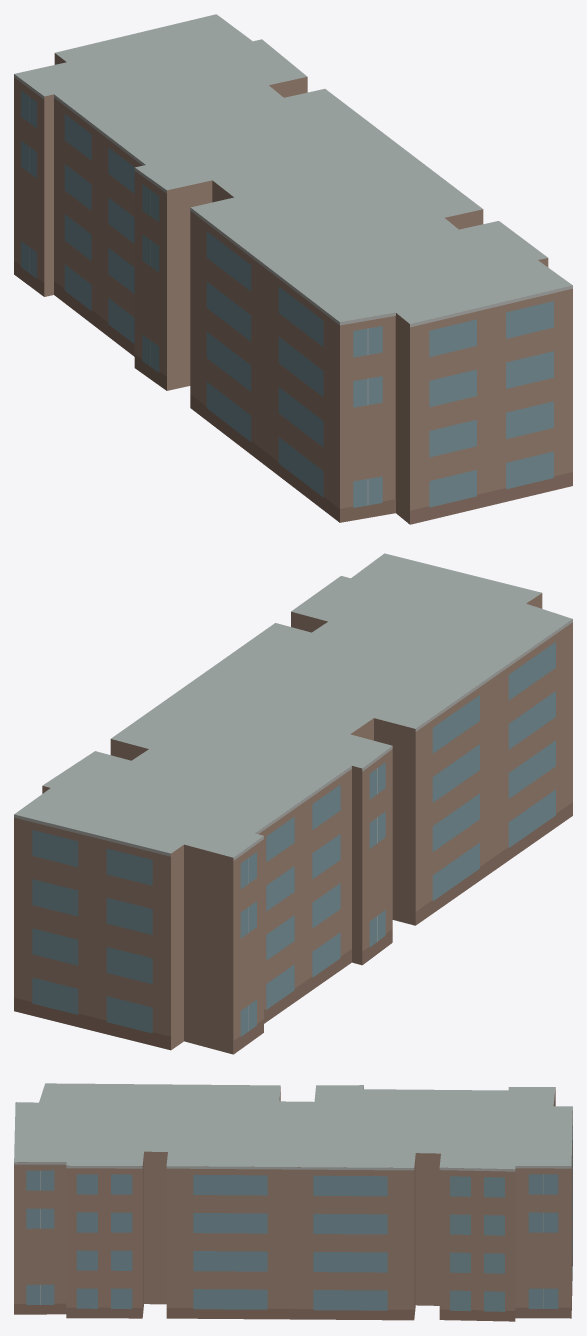
File: survey-upis-32832489.glb
3 views of the same model, one above another, from view 1: azimuth 30°, elevation 25°; view 2: azimuth 150°, elevation 25°; view 3: azimuth 270°, elevation 25° (orthographic). The views are drawn at different scales.
Visible parts, largest first — view 1: survey-upis-32832489.tmp; view 2: survey-upis-32832489.tmp; view 3: survey-upis-32832489.tmp.
Boxes of the visible parts, bbox=[...] form: survey-upis-32832489.tmp: bbox=[14, 14, 572, 524]; survey-upis-32832489.tmp: bbox=[14, 553, 572, 1054]; survey-upis-32832489.tmp: bbox=[14, 1083, 572, 1321].
Bounding box in the file's own units: 18.13 × 15 × 49.87.
